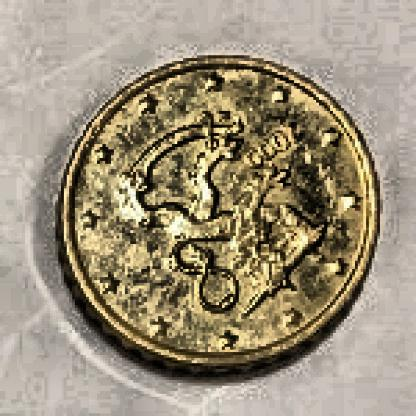coin: (55, 54, 383, 378)
